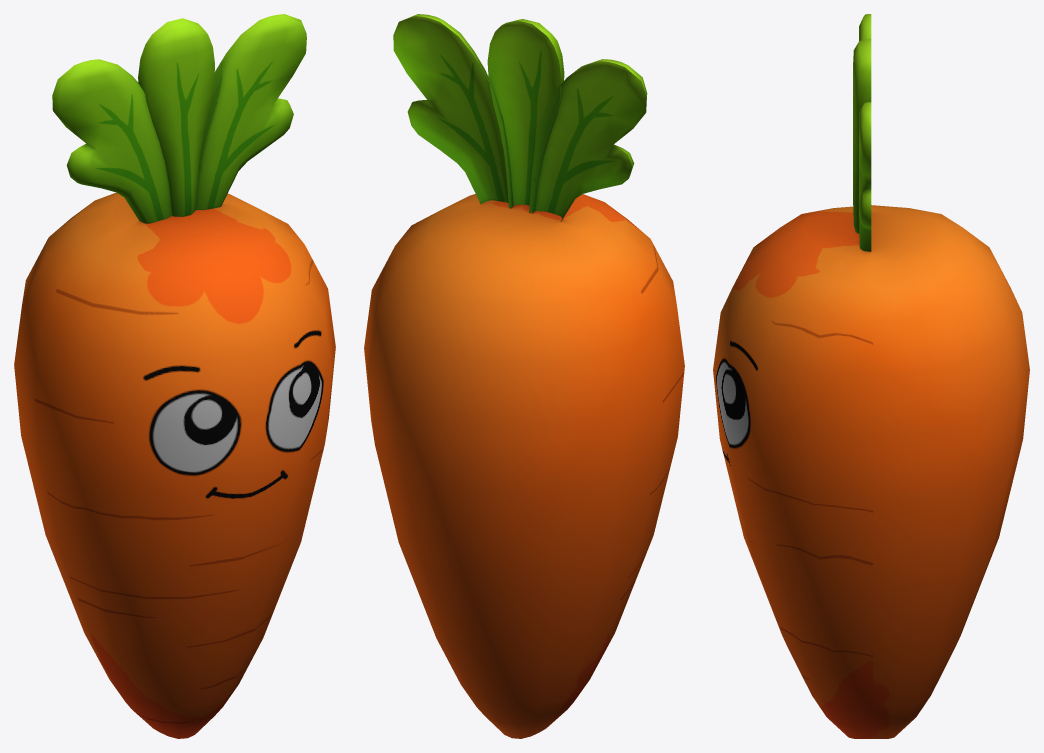
Rendered from Wortel_texture.fbx.
The picture shows the model from 3 angles, left to right: view 1: azimuth 30°, elevation 25°; view 2: azimuth 150°, elevation 25°; view 3: azimuth 270°, elevation 25°; orthographic projection. The views are drawn at different scales.
Parts seen in each view (by area): view 1: Cylinder, Cube.001, Cube; view 2: Cylinder, Cube.001, Cube; view 3: Cylinder, Cube.001, Cube.
Part boxes in pixels (x1,y1,x2,y2): Cylinder: (14,192,335,738); Cube.001: (52,14,306,223); Cube: (138,18,214,216); Cylinder: (364,194,684,738); Cube.001: (393,14,647,221); Cube: (487,19,564,213); Cylinder: (713,205,1029,738); Cube.001: (859,14,871,251); Cube: (853,38,871,233).
Bounding box in the file's own units: 163 × 393 × 163.
